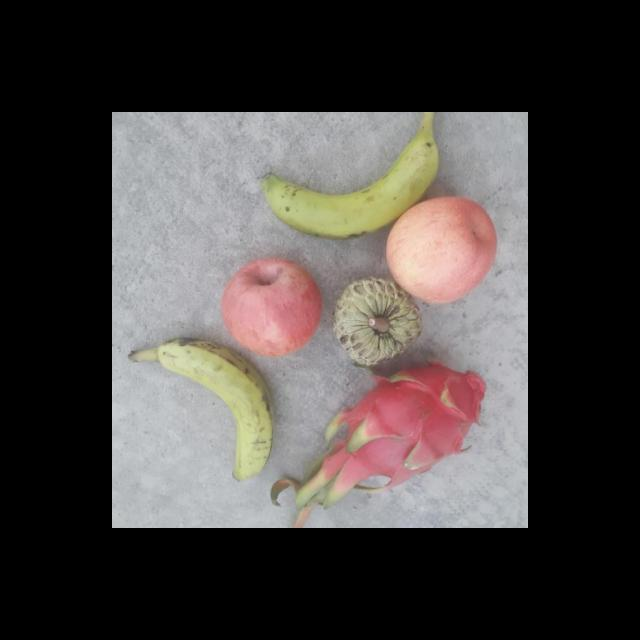Sakya fruit: (331, 273, 426, 366)
apple: (385, 196, 503, 307), (221, 258, 323, 360)
banana: (138, 340, 278, 488), (254, 135, 443, 242)
pitaya: (344, 366, 490, 484)
